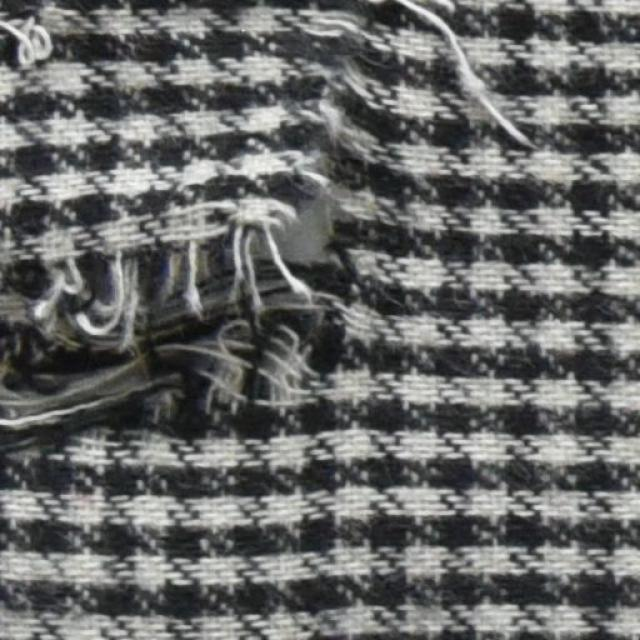Hole: (271, 203, 346, 277)
Snag: (0, 218, 314, 454), (292, 2, 551, 217), (0, 6, 79, 84)
